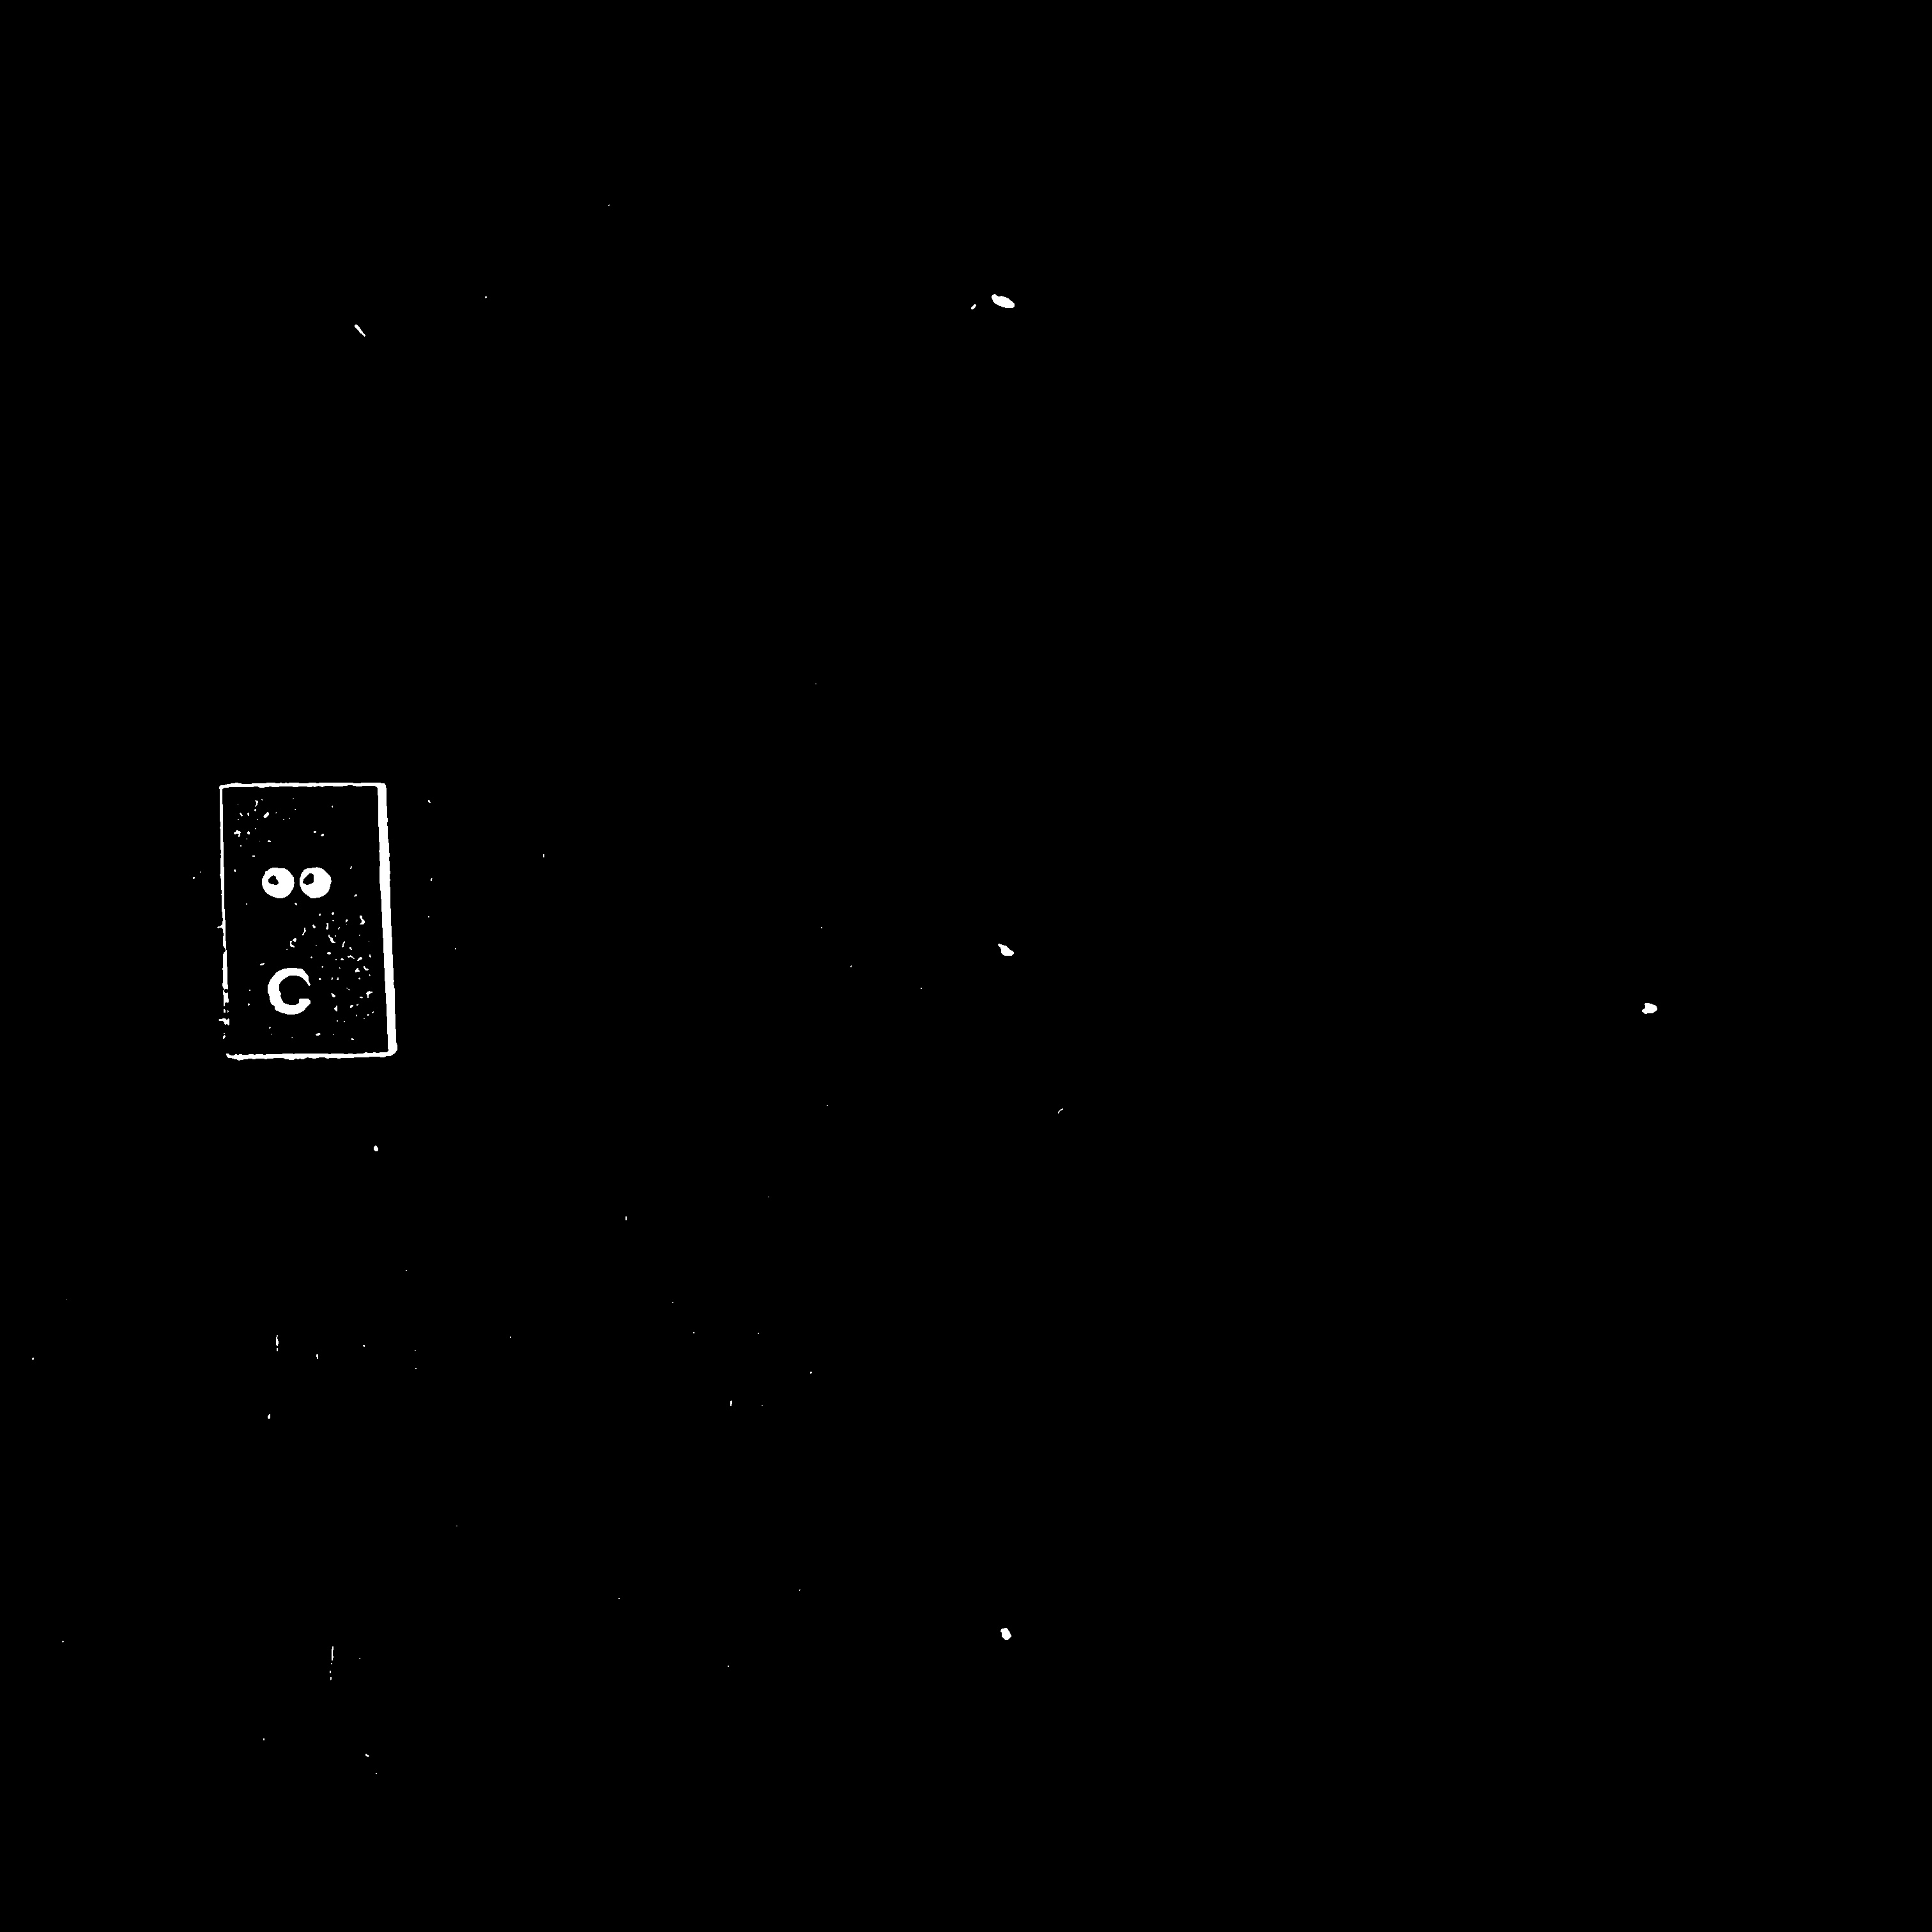c: (244, 852, 346, 968)
